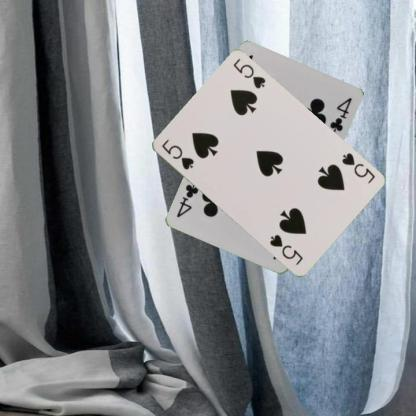5s: (338, 150, 376, 185), (158, 137, 196, 171)
